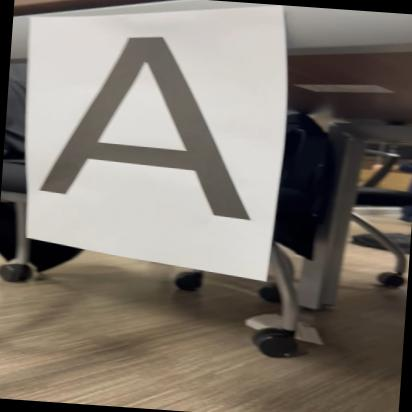seat: (26, 22, 276, 228)
